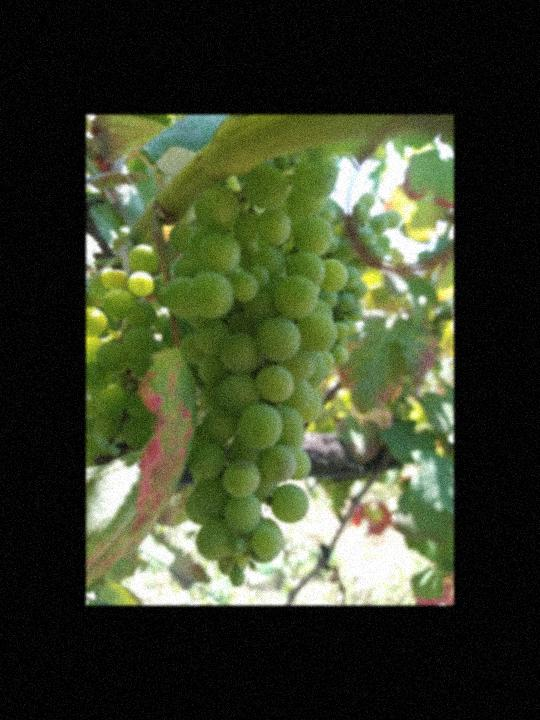grape: (157, 151, 348, 587)
